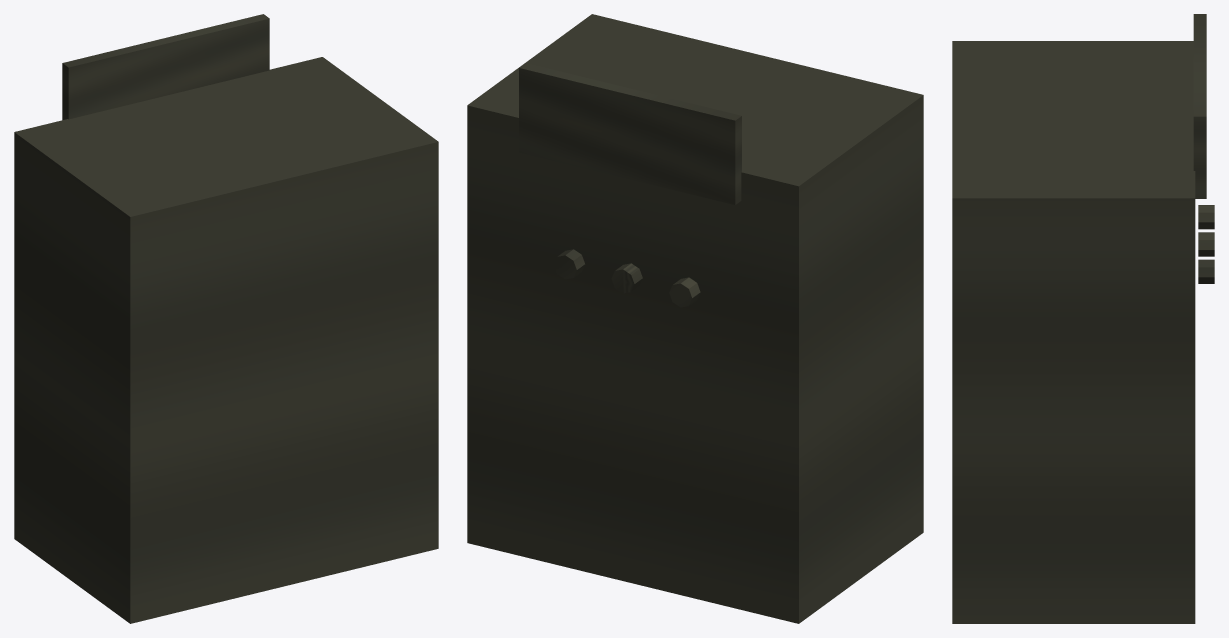
File: env_guard_booth_a.glb
The picture shows the model from 3 angles, left to right: view 1: azimuth 30°, elevation 25°; view 2: azimuth 150°, elevation 25°; view 3: azimuth 270°, elevation 25°; orthographic projection. The views are drawn at different scales.
Visible parts, largest first — view 1: env_guard_booth_a; view 2: env_guard_booth_a; view 3: env_guard_booth_a.
Part boxes in pixels (box(x1,y1,x2,y2)): env_guard_booth_a: box(14, 14, 438, 623); env_guard_booth_a: box(467, 14, 923, 623); env_guard_booth_a: box(952, 14, 1214, 623).
Bounding box in the file's own units: 1.15 × 1.66 × 0.81.
1 material, 1 textured.
